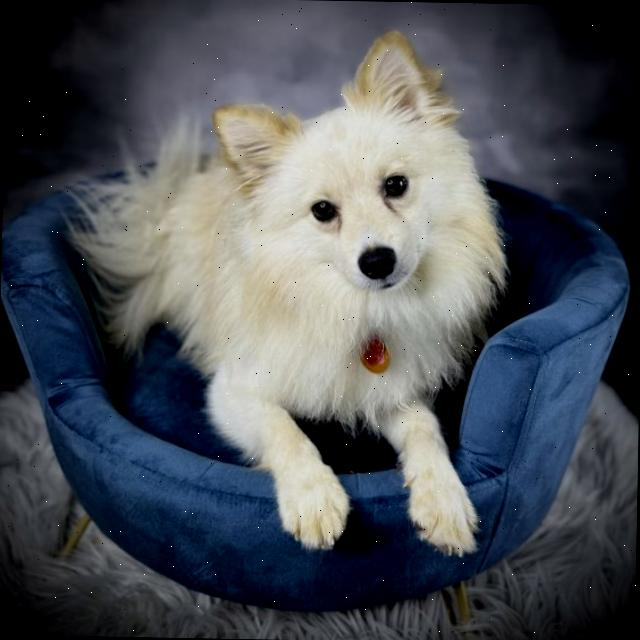pomeranian_dog: (199, 16, 506, 347)
